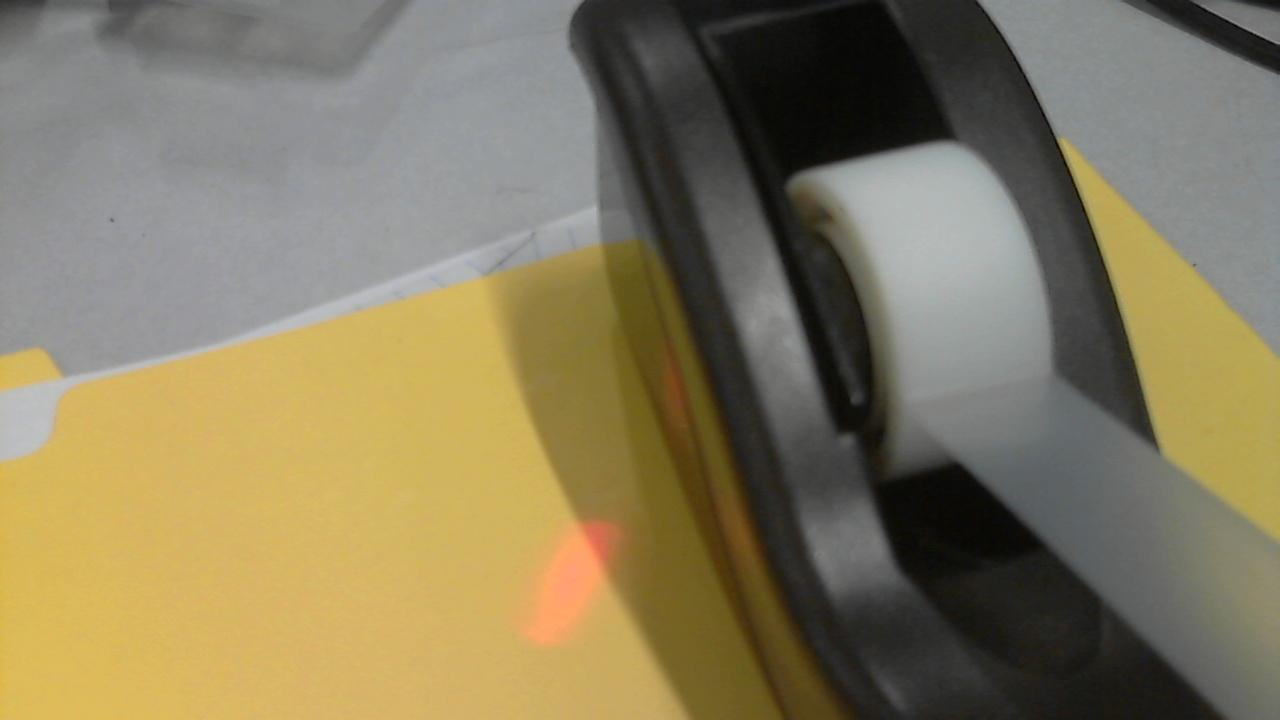Object desktop tape dispenser - Material plastic - Pdfname 8pMd29OsIRjD: (642, 314, 712, 457)
